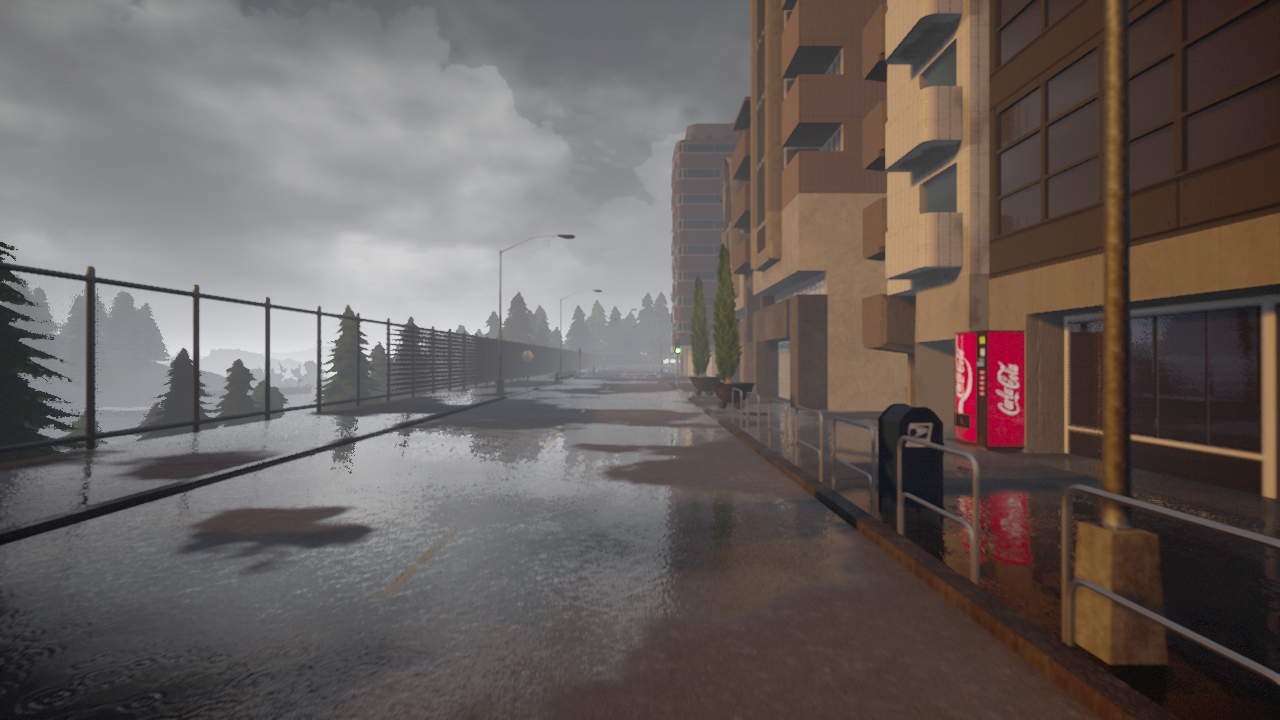green: (674, 338, 681, 353)
